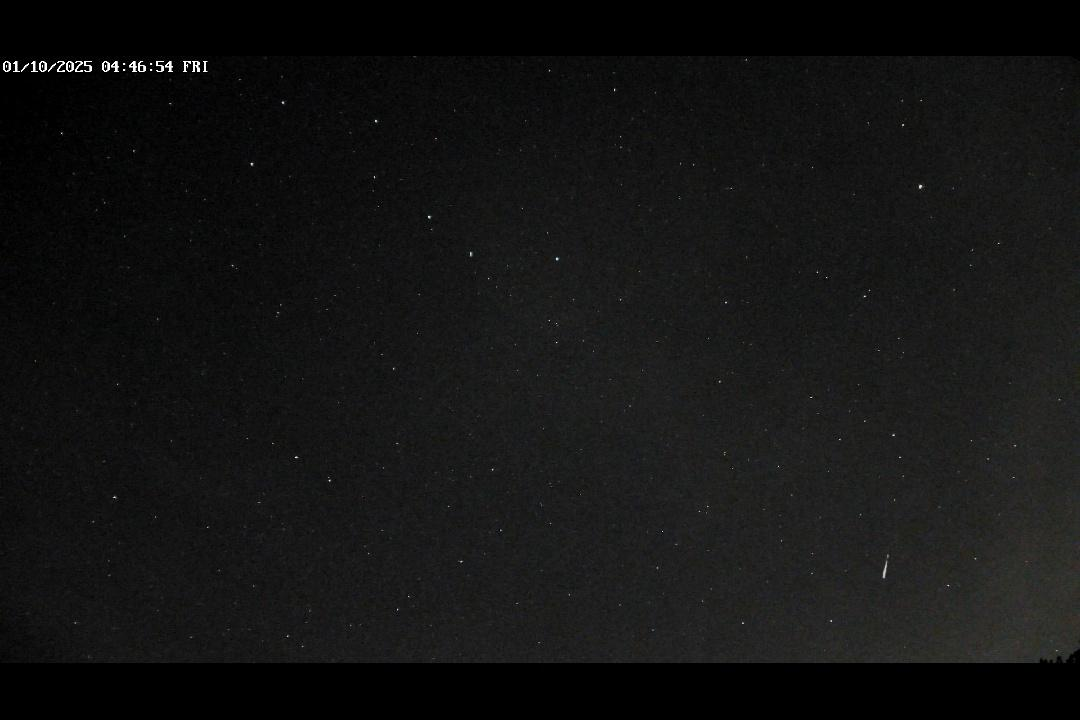meteorite: (878, 554, 895, 583)
